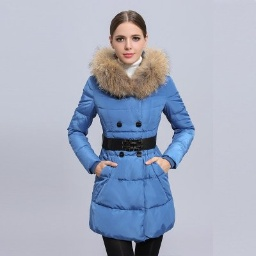face: (107, 8, 150, 66)
